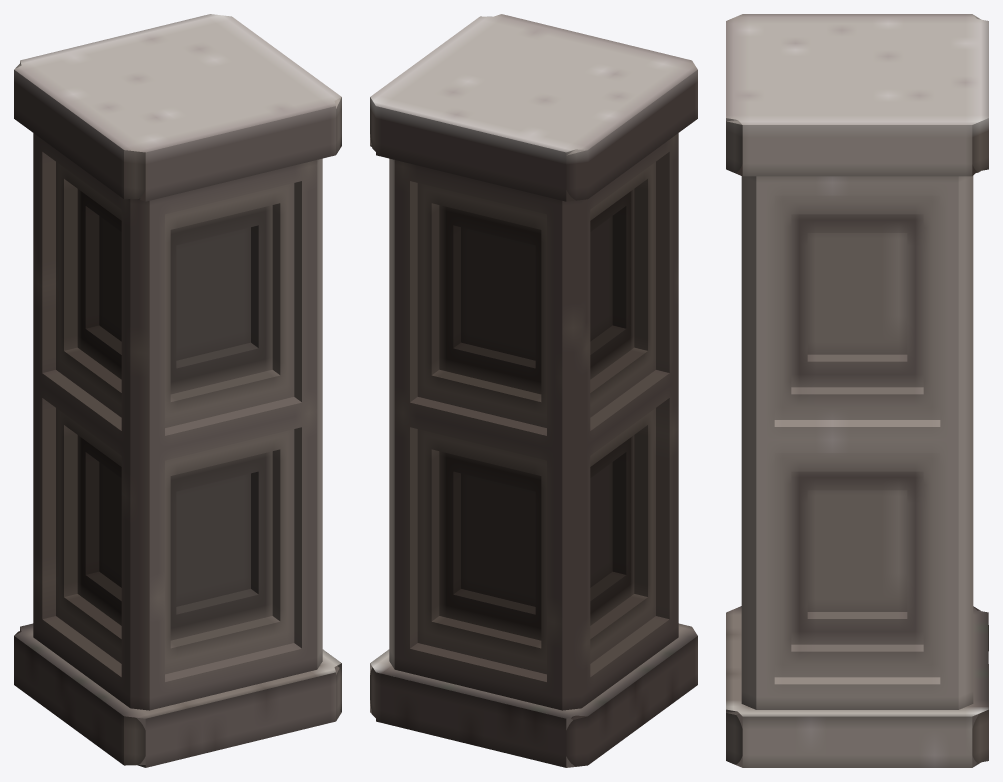
File: pillar_687x01.obj
The picture shows the model from 3 angles, left to right: view 1: azimuth 30°, elevation 25°; view 2: azimuth 150°, elevation 25°; view 3: azimuth 270°, elevation 25°; orthographic projection. The views are drawn at different scales.
Parts seen in each view (by area): view 1: Pillar; view 2: Pillar; view 3: Pillar.
Boxes of the visible parts, x1,y1,x2,y2 form: Pillar: (14,14,341,767); Pillar: (370,14,697,767); Pillar: (726,14,988,767).
Bounding box in the file's own units: 2 × 5.4 × 2.
